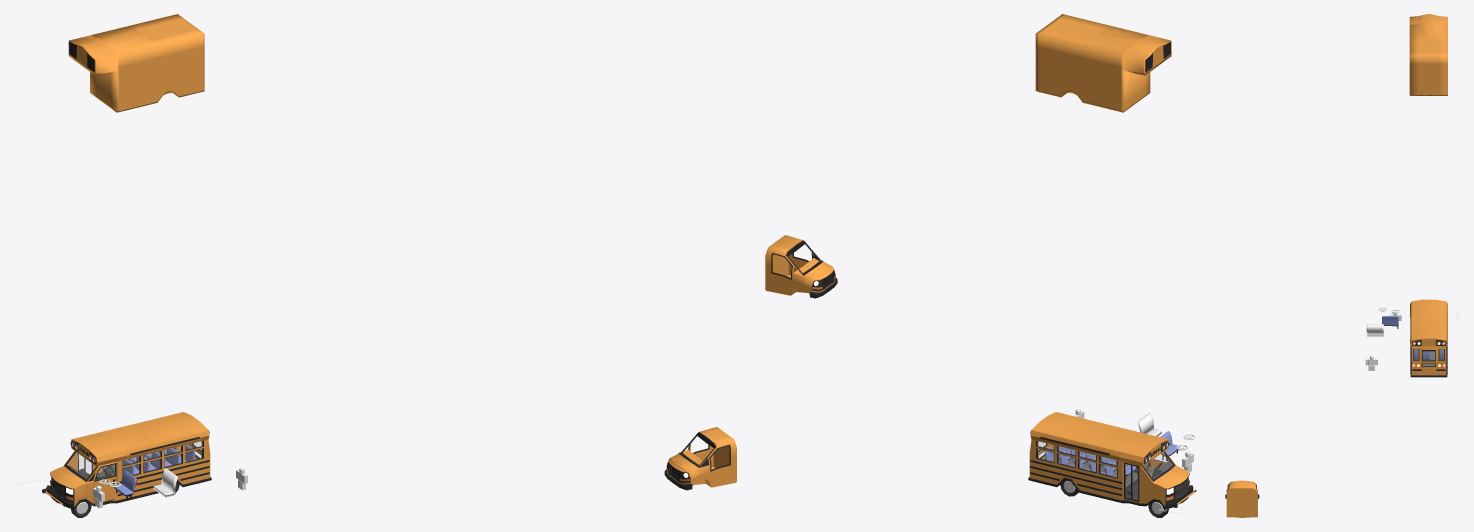
3 renders of one model, left to right at view 1: azimuth 30°, elevation 25°; view 2: azimuth 150°, elevation 25°; view 3: azimuth 270°, elevation 25°, orthographic. The views are drawn at different scales.
Parts seen in each view (by area): view 1: Cube010_1, Cube016_1, Cube015_1, Cube006_1, Cube015_2, Cube027; view 2: Cube010_1, Cube016_1, Cube015_1, Cube006_1, Cube015_2, Cube026, Cube006_2, Cube009_1; view 3: Cube010_1, Cube016_1, Cube006_1, Cube015_1, Cube015_2.
Part boxes in pixels (bbox=[...]): Cube010_1: bbox=[68, 14, 204, 112]; Cube016_1: bbox=[70, 412, 209, 466]; Cube015_1: bbox=[50, 439, 210, 506]; Cube006_1: bbox=[666, 427, 736, 487]; Cube015_2: bbox=[46, 440, 211, 509]; Cube027: bbox=[123, 441, 201, 474]; Cube010_1: bbox=[1035, 14, 1171, 112]; Cube016_1: bbox=[1030, 412, 1168, 466]; Cube015_1: bbox=[1029, 439, 1189, 506]; Cube006_1: bbox=[765, 235, 835, 295]; Cube015_2: bbox=[1028, 440, 1193, 509]; Cube026: bbox=[1038, 442, 1116, 476]; Cube006_2: bbox=[786, 240, 837, 298]; Cube009_1: bbox=[767, 250, 794, 295]; Cube010_1: bbox=[1409, 14, 1447, 95]; Cube016_1: bbox=[1410, 299, 1447, 346]; Cube006_1: bbox=[1226, 480, 1257, 517]; Cube015_1: bbox=[1411, 346, 1446, 375]; Cube015_2: bbox=[1410, 345, 1447, 377].
Bounding box in the file's own units: 148 × 117 × 75.44.
